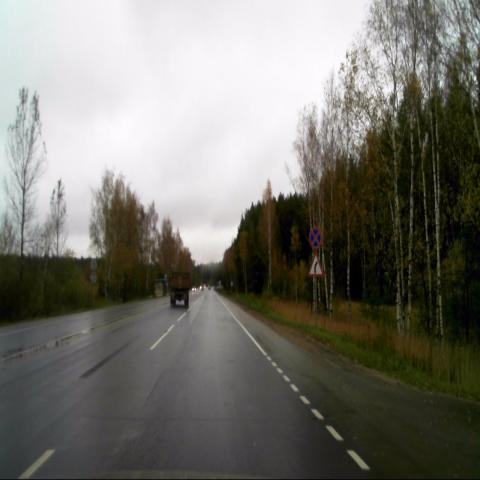1_11: (306, 252, 324, 278)
